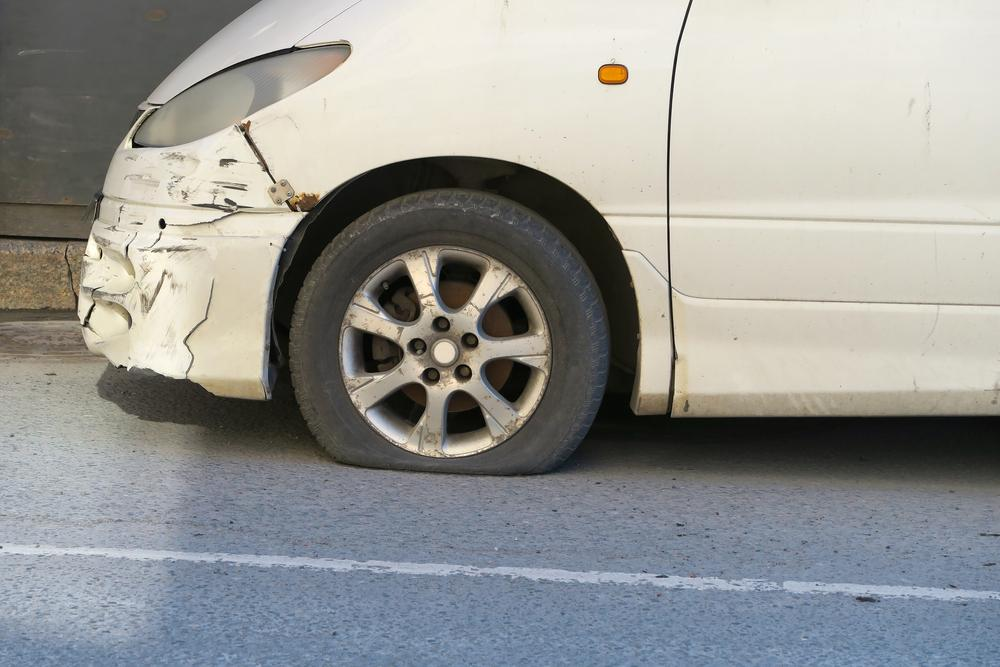crack: (183, 276, 215, 379), (165, 211, 242, 227), (82, 286, 103, 339)
scratch: (81, 143, 256, 362)
tire flat: (288, 187, 612, 476)
